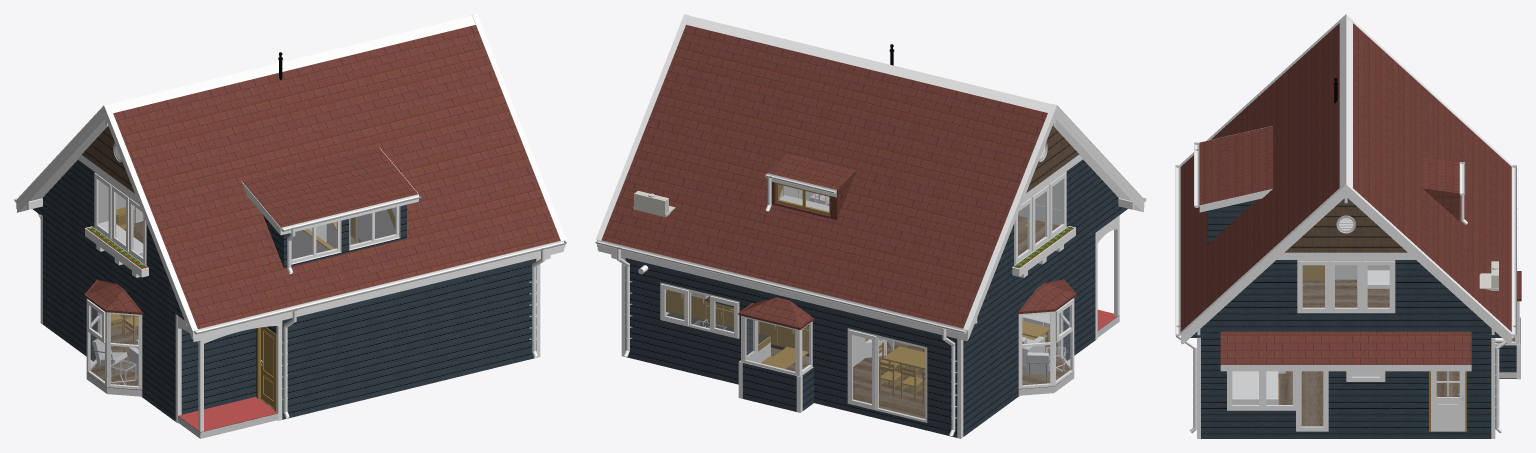
Rendered from casa_del_condominio_viejo_roble.glb novo.glb.
The picture shows the model from 3 angles, left to right: view 1: azimuth 30°, elevation 25°; view 2: azimuth 150°, elevation 25°; view 3: azimuth 270°, elevation 25°; orthographic projection. The views are drawn at different scales.
Parts seen in each view (by area): view 1: Object_302, Object_22, Object_12, Object_330, Object_127, Object_31, Object_300, Object_875, Object_196, Object_329, Object_757, Object_328 (+21 smaller); view 2: Object_302, Object_76, Object_12, Object_127, Object_300, Object_201, Object_875, Object_317, Object_196, Object_335, Object_280, Object_759 (+23 smaller); view 3: Object_302, Object_17, Object_119, Object_617, Object_330, Object_313, Object_204, Object_325, Object_323, Object_761, Object_763, Object_317 (+25 smaller).
Boxes of the visible parts, x1,y1,x2,y2 form: Object_302: (113, 25, 560, 328); Object_22: (282, 258, 536, 419); Object_12: (43, 217, 175, 421); Object_330: (242, 148, 418, 227); Object_127: (41, 160, 184, 319); Object_31: (181, 328, 255, 414); Object_300: (17, 114, 563, 341); Object_875: (109, 16, 475, 113); Object_196: (89, 306, 138, 386); Object_329: (292, 207, 395, 259); Object_757: (104, 104, 197, 339); Object_328: (241, 148, 418, 264); Object_302: (601, 25, 1047, 328); Object_76: (625, 258, 957, 437); Object_12: (963, 233, 1095, 436); Object_127: (977, 159, 1119, 318); Object_300: (598, 114, 1143, 341); Object_201: (853, 335, 924, 419); Object_875: (686, 16, 1051, 112); Object_317: (771, 336, 1073, 418); Object_196: (1022, 306, 1071, 385); Object_335: (768, 153, 856, 220); Object_280: (746, 318, 810, 371); Object_759: (963, 104, 1056, 338); Object_302: (1181, 23, 1511, 331); Object_17: (1201, 338, 1491, 438); Object_119: (1197, 260, 1495, 337); Object_617: (1220, 331, 1471, 364); Object_330: (1199, 126, 1272, 205); Object_313: (1285, 198, 1407, 252); Object_204: (1232, 371, 1322, 426); Object_325: (1303, 265, 1389, 307); Object_323: (1297, 260, 1395, 313); Object_761: (1180, 182, 1346, 343); Object_763: (1346, 182, 1512, 343); Object_317: (1278, 371, 1516, 426).
Bounding box in the file's own units: 10.71 × 7.77 × 8.85.
54 materials, 4 textured.
